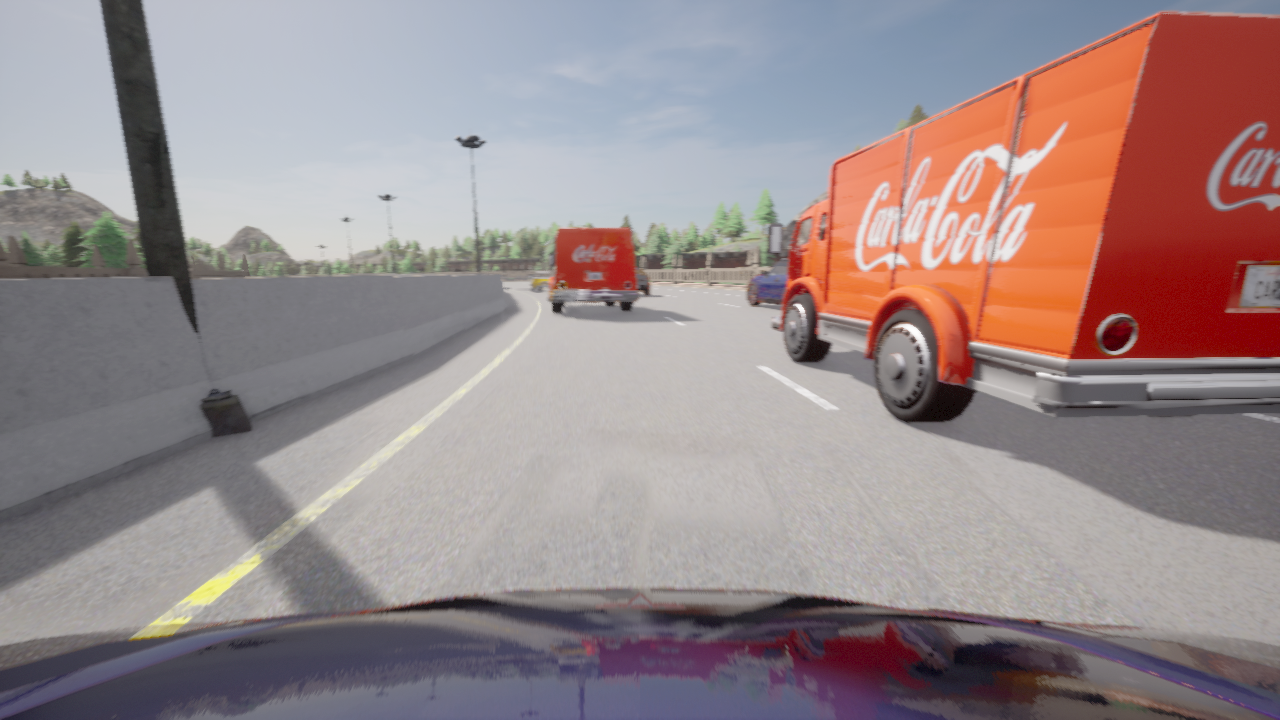cyclist: (767, 11, 1279, 423), (0, 588, 1279, 719), (548, 227, 638, 312), (747, 259, 788, 305), (530, 271, 551, 291), (635, 268, 649, 295)
